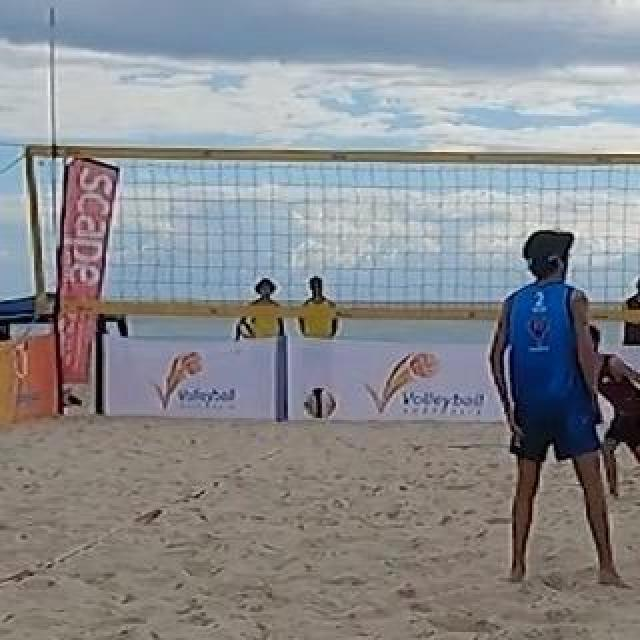volleyball: (308, 387, 334, 417)
